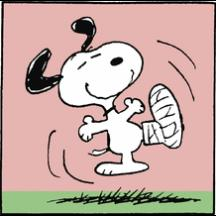snoopy: (23, 14, 184, 178)
